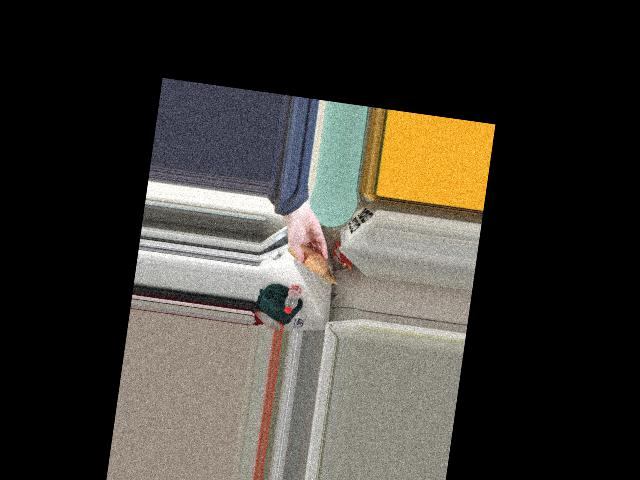sweet_potato: (290, 241, 327, 274)
